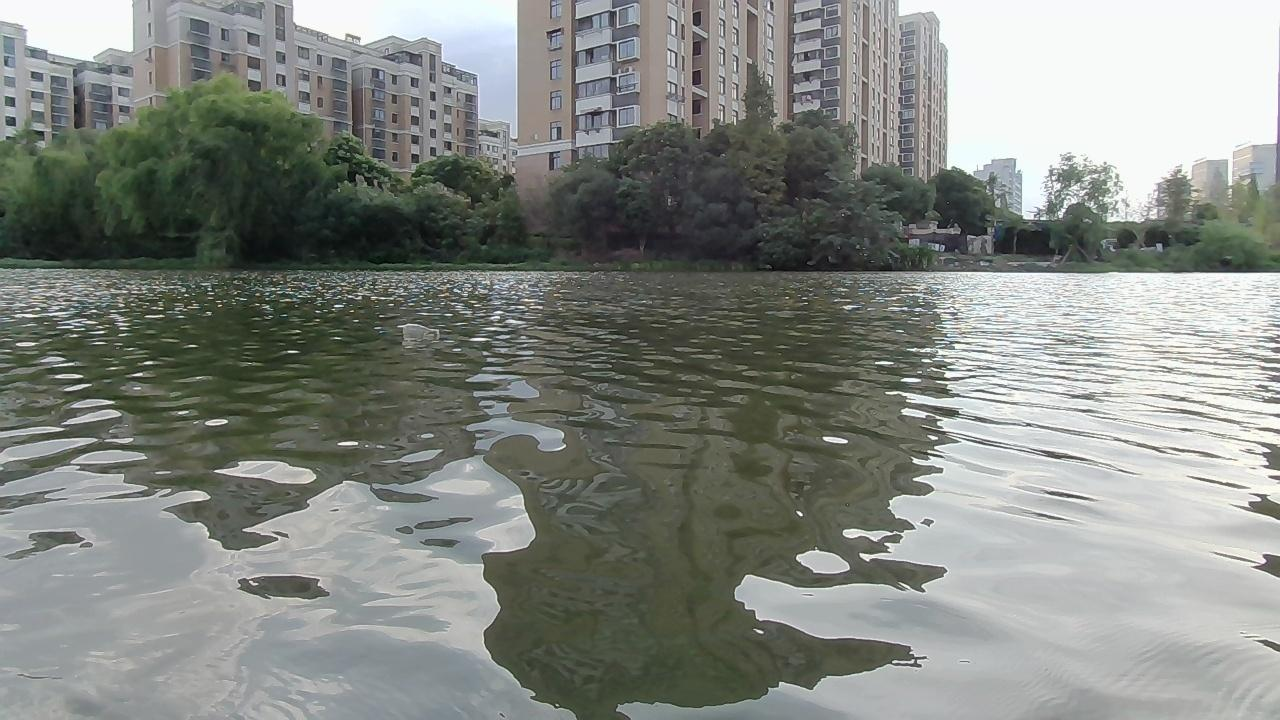bottle: (399, 319, 442, 342)
